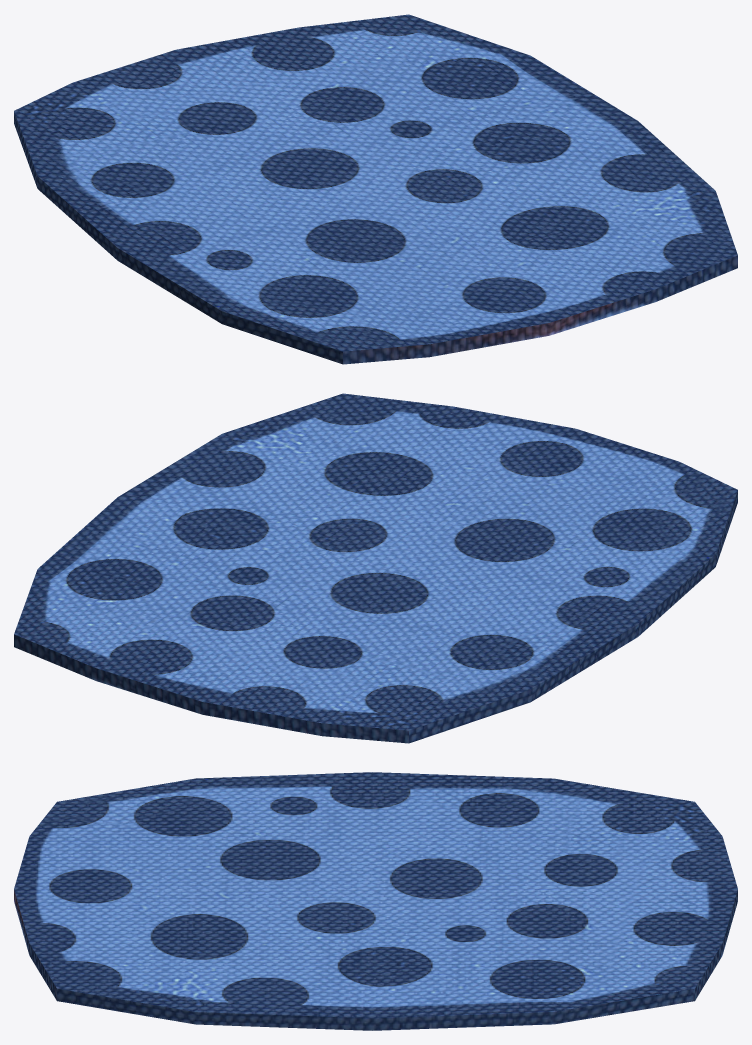
File: rug_mesh.fbx
3 views of the same model, one above another, from view 1: azimuth 30°, elevation 25°; view 2: azimuth 150°, elevation 25°; view 3: azimuth 270°, elevation 25° (orthographic). The views are drawn at different scales.
Visible parts, largest first — view 1: rug_mesh; view 2: rug_mesh; view 3: rug_mesh.
Part boxes in pixels (box(x1,y1,x2,y2)): rug_mesh: box(14, 14, 737, 364); rug_mesh: box(14, 393, 737, 743); rug_mesh: box(14, 772, 737, 1030).
Size of the model in its own units: 120 by 2.83 by 149.
